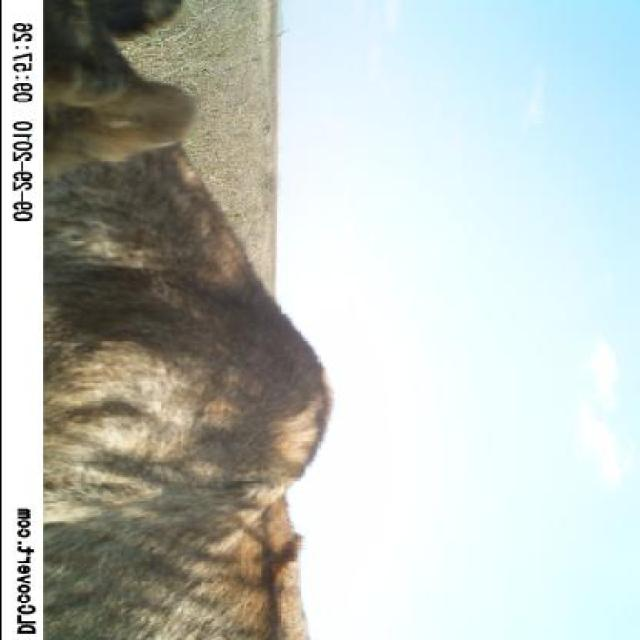Lion: (43, 1, 383, 638)
